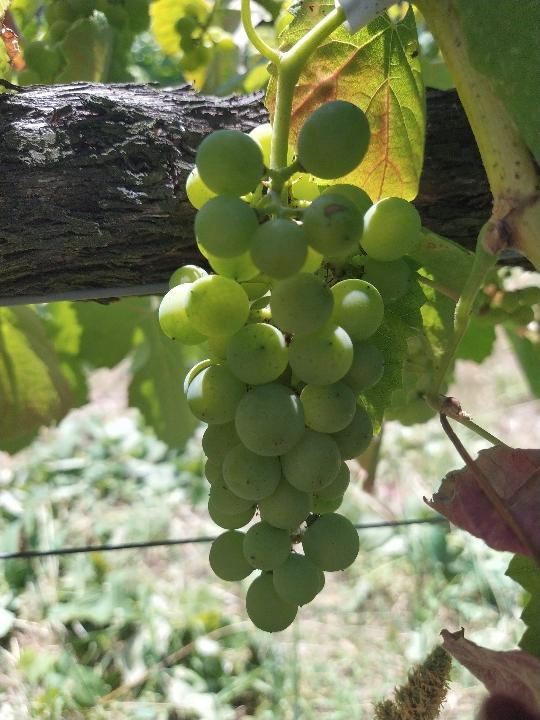grape: (156, 97, 422, 633)
